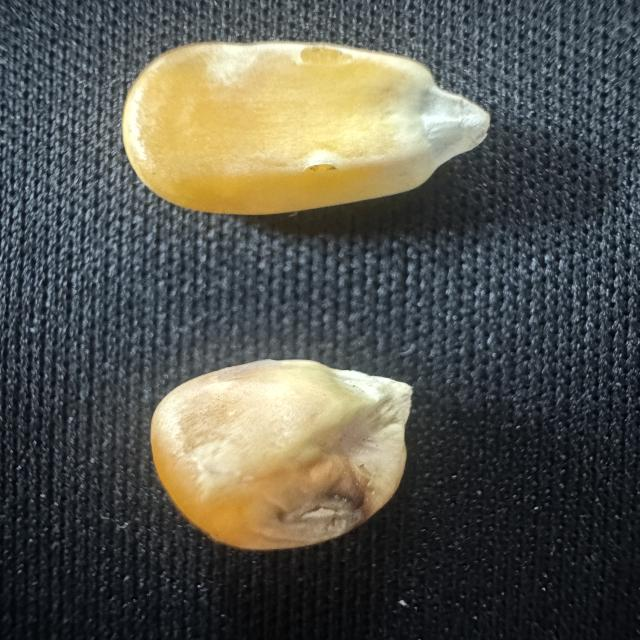Bad-Seed: (140, 345, 423, 570)
Good-Seed: (115, 29, 495, 230)
